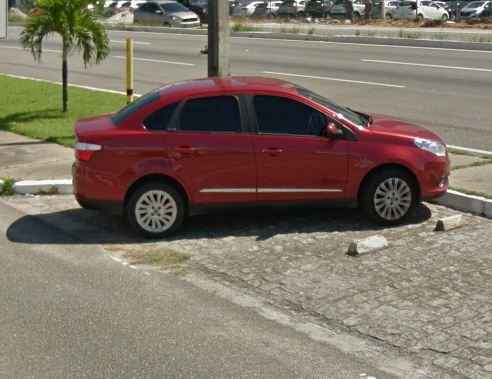car: (70, 73, 453, 242)
